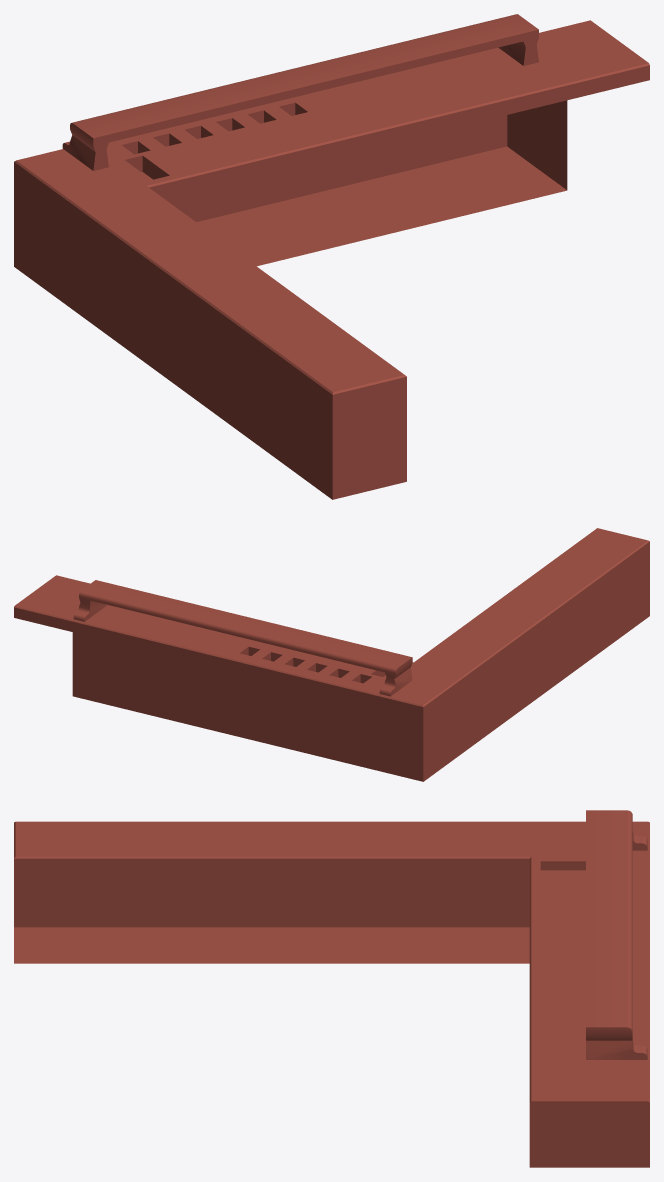
File: sushiLTahtası.fbx
3 renders of one model, top to bottom at view 1: azimuth 30°, elevation 25°; view 2: azimuth 150°, elevation 25°; view 3: azimuth 270°, elevation 25°, orthographic. The views are drawn at different scales.
Visible parts, largest first — view 1: masaservis, masaüstservis; view 2: masaservis, masaüstservis; view 3: masaservis, masaüstservis.
Part boxes in pixels (x1,y1,x2,y2): masaservis: (14, 20, 649, 499); masaüstservis: (62, 14, 538, 170); masaservis: (14, 528, 649, 781); masaüstservis: (73, 580, 412, 696); masaservis: (14, 821, 649, 1167); masaüstservis: (586, 810, 647, 1059).
Size of the model in its own units: 7715 by 1797 by 7394.
